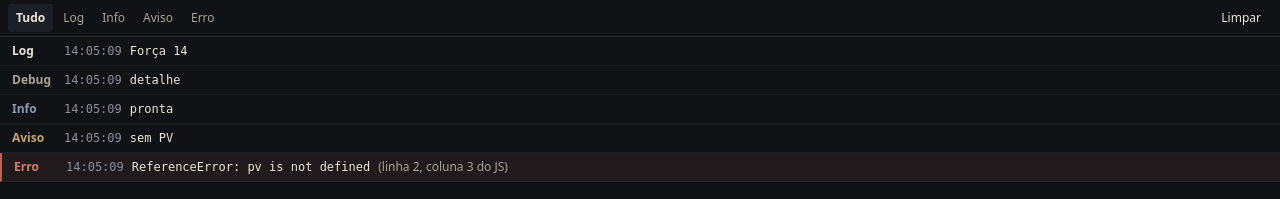
Test: SheetConsolePanel › the filter "Log" shows only that kind
Click the button "Log" at (74, 18), box [55, 4, 92, 32]
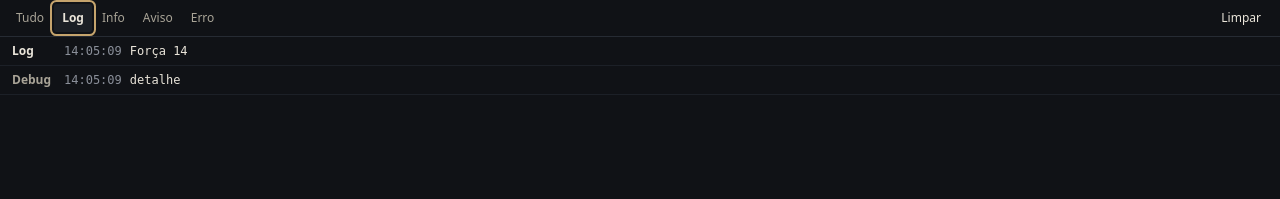
Check: the number of list items is 2, box [0, 37, 1279, 66]; [0, 66, 1279, 95]
